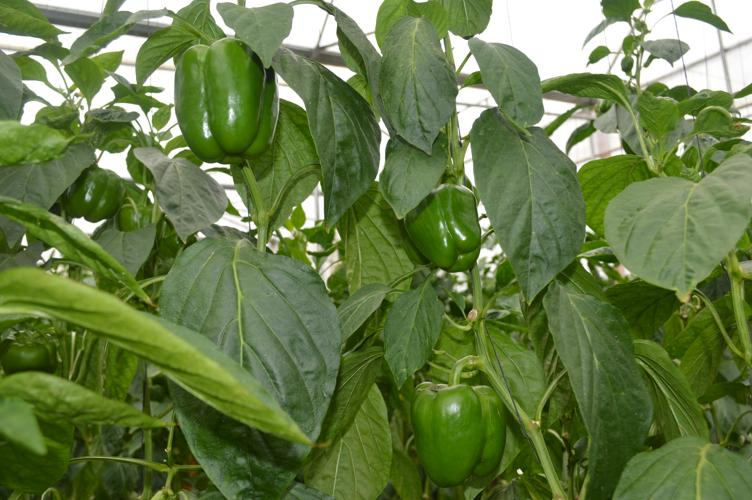BellPepper: (160, 38, 285, 168), (409, 375, 512, 487), (395, 187, 500, 274), (66, 167, 130, 229)
